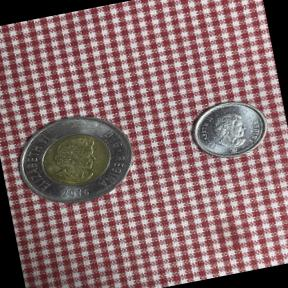Canada-10cent-B: (180, 92, 277, 170)
Canada-2Dollar-B: (6, 99, 147, 219)
